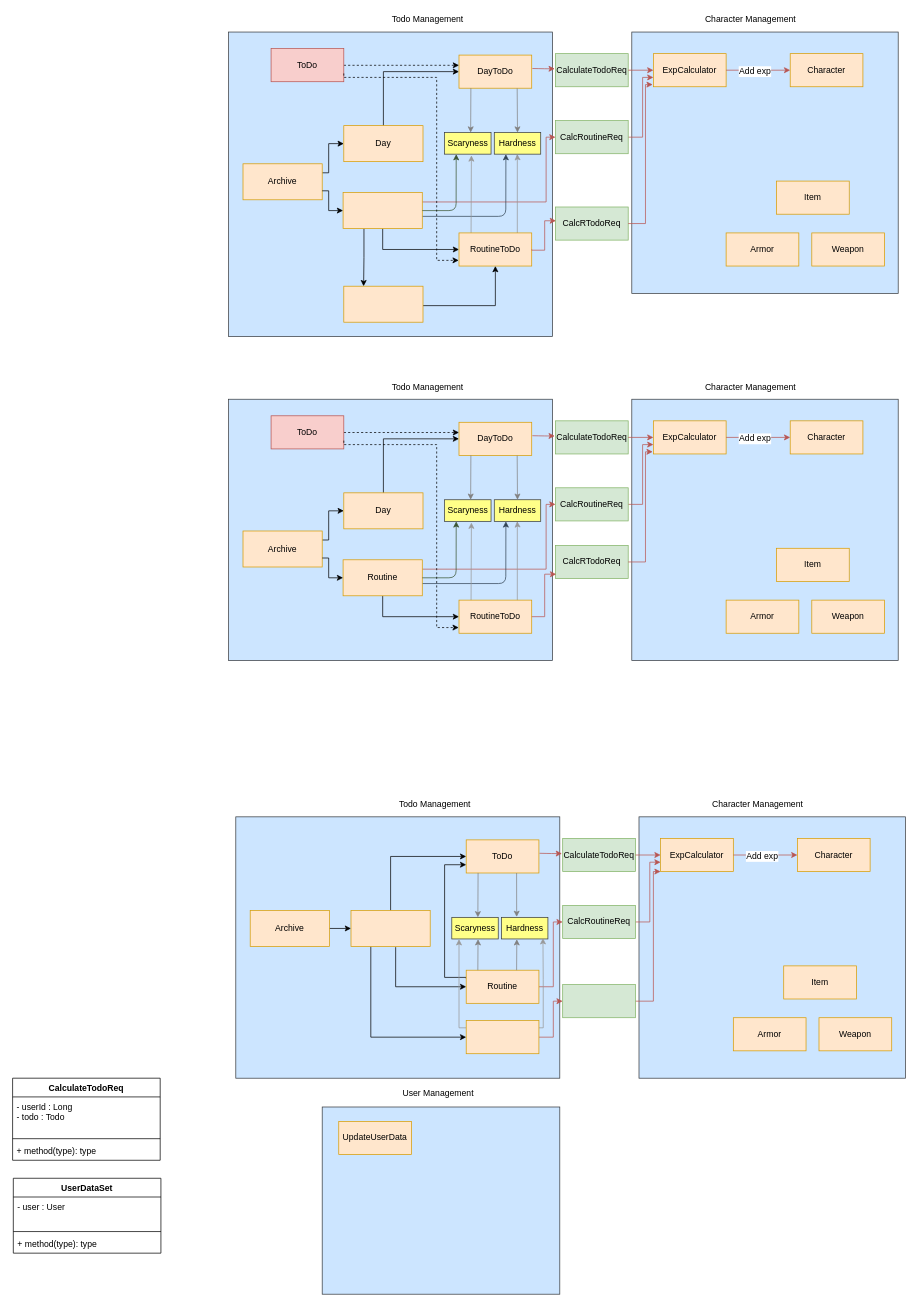
Image size: 918x1307. Some labels were removed from this diagram. The centre of each missing label's shape, as x and y in pixels:
CalcHabitReq: (598,1001)
Habit: (502,1037)
Routine(template): (382,210)
RoutineInstance: (383,303)
TodoBlock: (390,928)
